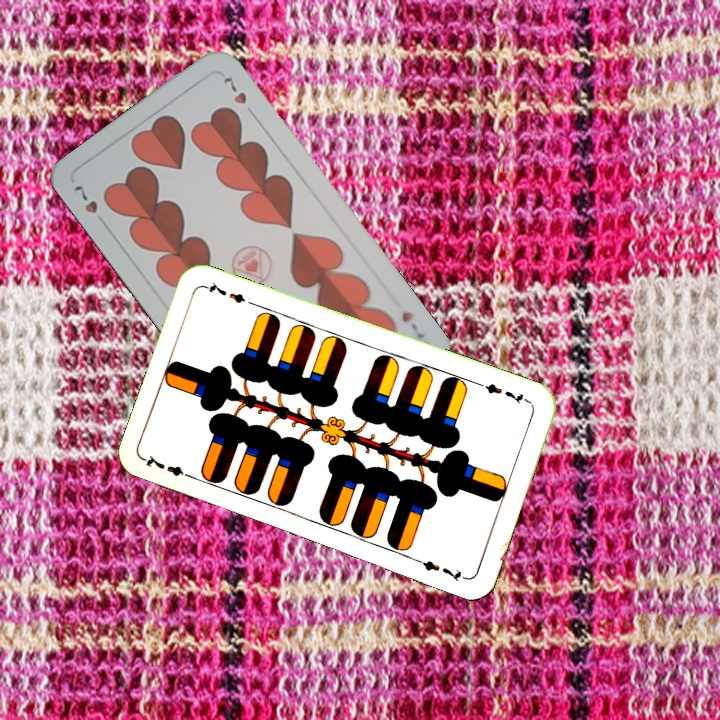E7: (140, 451, 197, 482), (475, 379, 532, 407)
H7: (70, 181, 110, 230), (397, 307, 427, 342)
